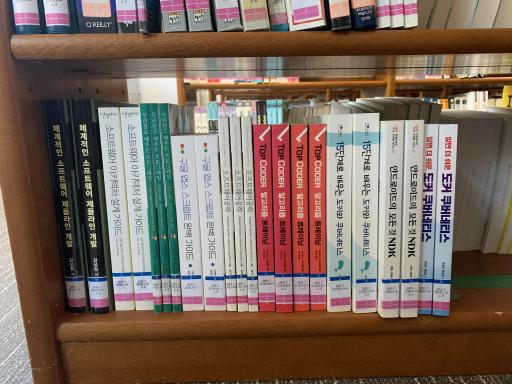book-spine: (41, 99, 88, 314), (69, 98, 110, 314), (98, 108, 134, 310), (120, 107, 153, 310), (171, 136, 204, 310), (194, 136, 225, 310), (355, 113, 380, 314), (400, 120, 425, 317), (159, 103, 182, 312), (329, 114, 353, 312), (433, 125, 458, 315), (140, 103, 162, 312), (150, 103, 172, 312), (382, 120, 404, 318), (253, 125, 275, 312), (418, 125, 439, 314), (272, 124, 293, 312), (218, 117, 237, 311), (291, 124, 310, 310), (231, 118, 248, 311), (309, 124, 326, 309), (242, 116, 258, 311)
